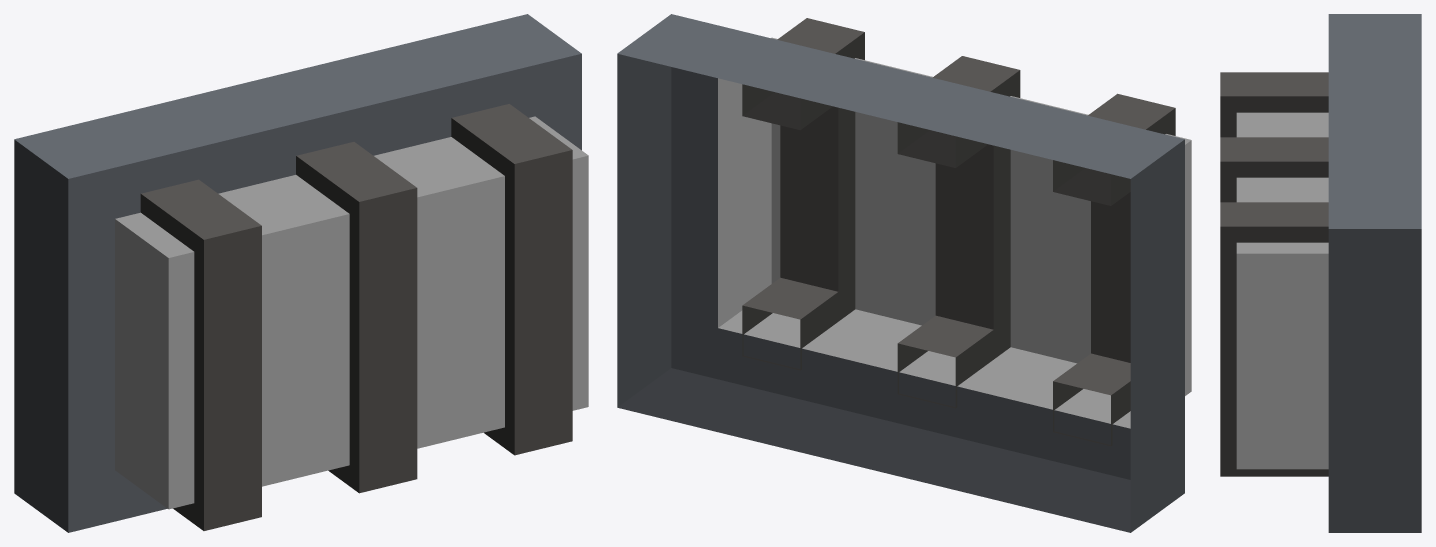
Rendered from AI_Env_Bunker_Light.fbx.
3 views of the same model, side by side, from view 1: azimuth 30°, elevation 25°; view 2: azimuth 150°, elevation 25°; view 3: azimuth 270°, elevation 25° (orthographic). The views are drawn at different scales.
Visible parts, largest first — view 1: AI_Env_Bunker_Light; view 2: AI_Env_Bunker_Light; view 3: AI_Env_Bunker_Light.
Part boxes in pixels (box(x1,y1,x2,y2)): AI_Env_Bunker_Light: box(14, 14, 588, 532); AI_Env_Bunker_Light: box(617, 14, 1191, 532); AI_Env_Bunker_Light: box(1220, 14, 1421, 532).
Size of the model in its own units: 1 by 0.6587 by 0.3956.
